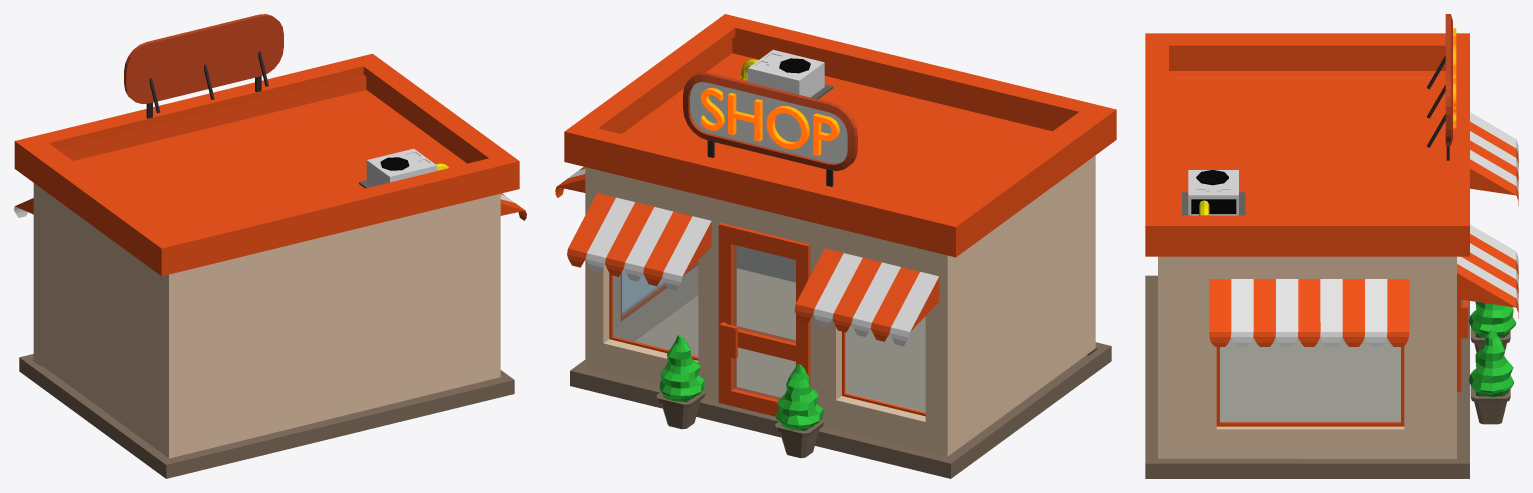
The model's file is shop-general-orange-b_night.glb.
3 renders of one model, left to right at view 1: azimuth 30°, elevation 25°; view 2: azimuth 150°, elevation 25°; view 3: azimuth 270°, elevation 25°, orthographic. The views are drawn at different scales.
Parts seen in each view (by area): view 1: casa base, tetto, base, sign_2, cassetta.001, sign_0; view 2: casa base, tetto, tenda frontale piccola, base, porta, vetri porta, vetro sx, vetro dx, sign_1, cespugli, sign_2, sign_letters (+3 smaller); view 3: tetto, casa base, vetro facciata sxx, tenda frontale.001, base, tenda frontale piccola, cespugli, cassetta.001, piante, sign_2, porta, sign_0 (+1 smaller).
Boxes of the visible parts, x1,y1,x2,y2 form: casa base: [33, 183, 500, 458]; tetto: [14, 53, 519, 276]; base: [19, 354, 514, 478]; sign_2: [124, 14, 283, 103]; cassetta.001: [366, 148, 436, 186]; sign_0: [146, 51, 268, 118]; casa base: [585, 155, 1095, 456]; tetto: [564, 14, 1116, 257]; tenda frontale piccola: [567, 193, 939, 346]; base: [570, 342, 1111, 478]; porta: [718, 223, 810, 416]; vetri porta: [733, 245, 795, 399]; vetro sx: [612, 261, 698, 356]; vetro dx: [846, 316, 925, 411]; sign_1: [690, 82, 847, 163]; cespugli: [659, 334, 823, 430]; sign_2: [683, 72, 857, 170]; sign_letters: [700, 87, 839, 155]; tetto: [1145, 33, 1469, 256]; casa base: [1158, 77, 1456, 458]; vetro facciata sxx: [1220, 337, 1400, 422]; tenda frontale.001: [1209, 279, 1409, 346]; base: [1145, 275, 1469, 478]; tenda frontale piccola: [1457, 112, 1518, 318]; cespugli: [1468, 302, 1516, 396]; cassetta.001: [1188, 170, 1238, 215]; piante: [1470, 326, 1510, 424]; sign_2: [1445, 14, 1452, 145]; porta: [1457, 299, 1468, 392]; sign_0: [1427, 55, 1449, 160].
Size of the model in its own units: 5.89 by 4.38 by 4.37.
